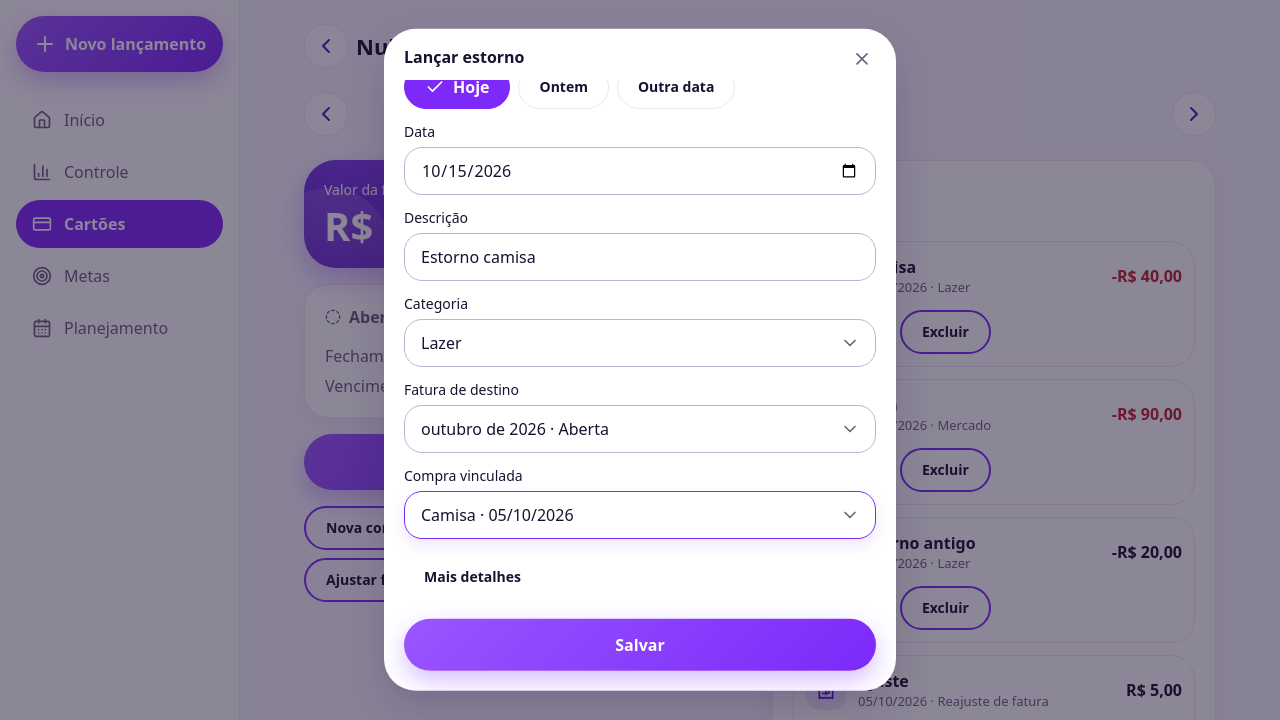
Test: lançar estorno (CA-4.16, lado da tela) › estorno maior que a compra vinculada recusado pelo servidor aparece no vínculo, com o sheet aberto
Earlier steps of the test are not shown.
(page scrolled)
Click the button "Salvar" at (640, 645), box [404, 619, 876, 671]
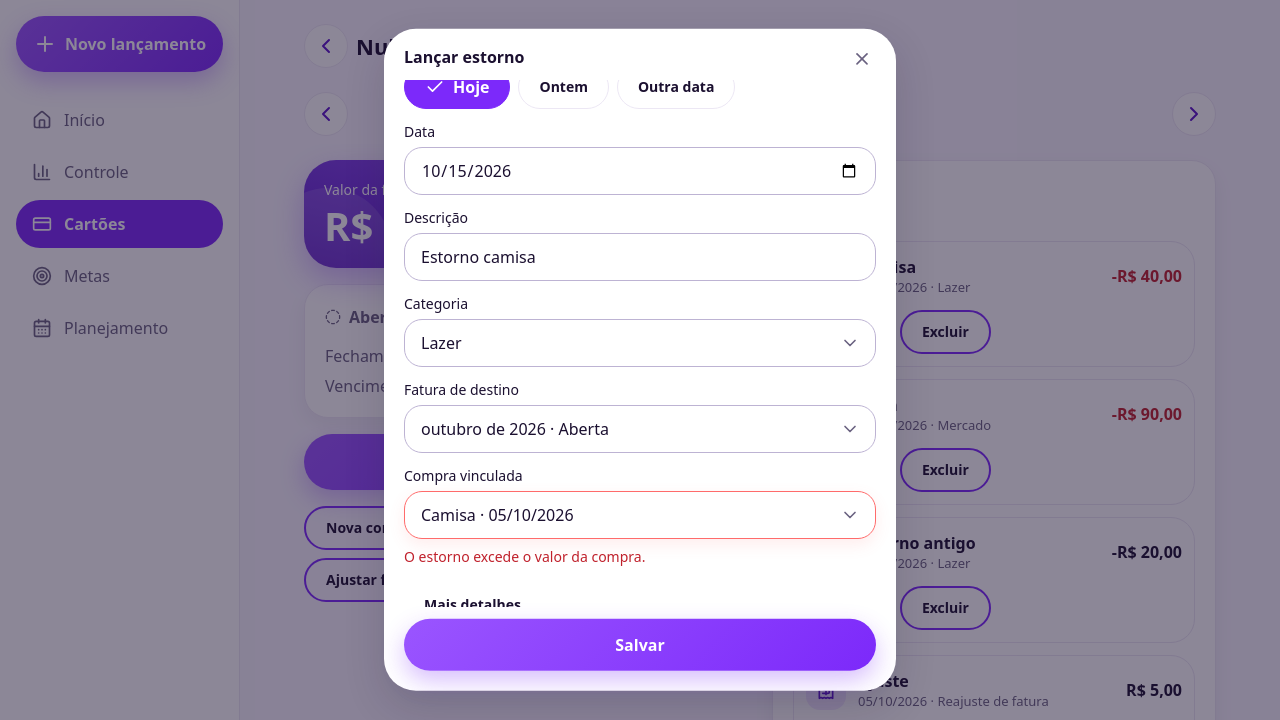
Check: the dialog "Lançar estorno" is shown, box [384, 29, 896, 691]
Check: the text "O estorno excede o valor da compra." is shown, box [404, 547, 645, 566]
